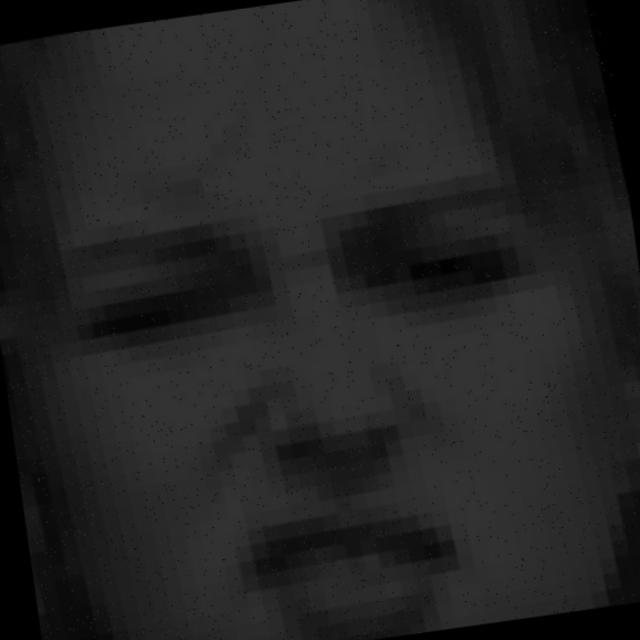Disgust: (47, 144, 616, 640)
